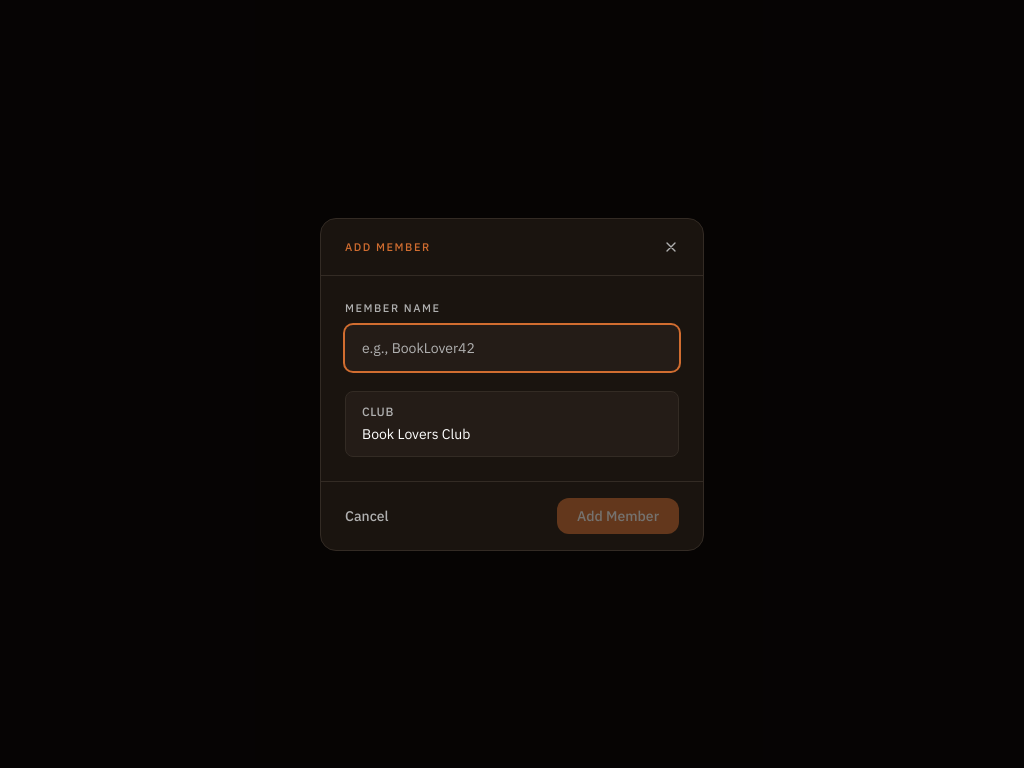
Scenario: MemberModal › Error Handling › shows error message in modal on network failure
The image size is (1024, 768).
In the field with placeholder "e.g., BookLover42": (512, 348) left=345, top=324, right=679, bottom=370, type "Test"
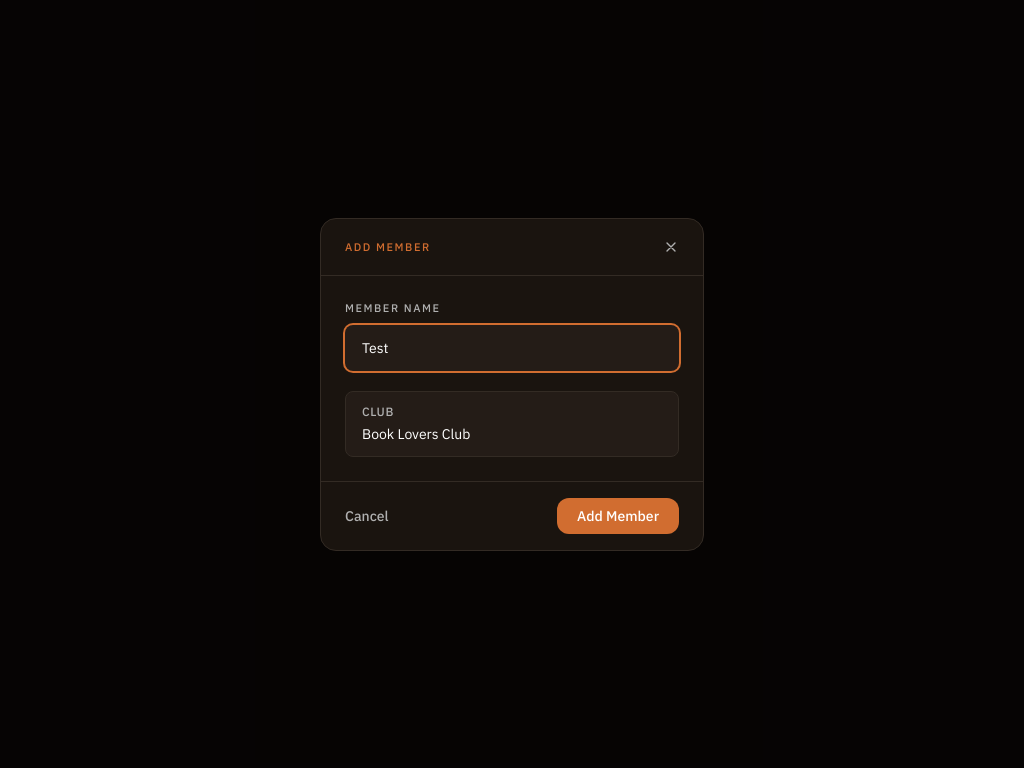
Click the button "Add Member": (618, 516) left=557, top=498, right=679, bottom=534
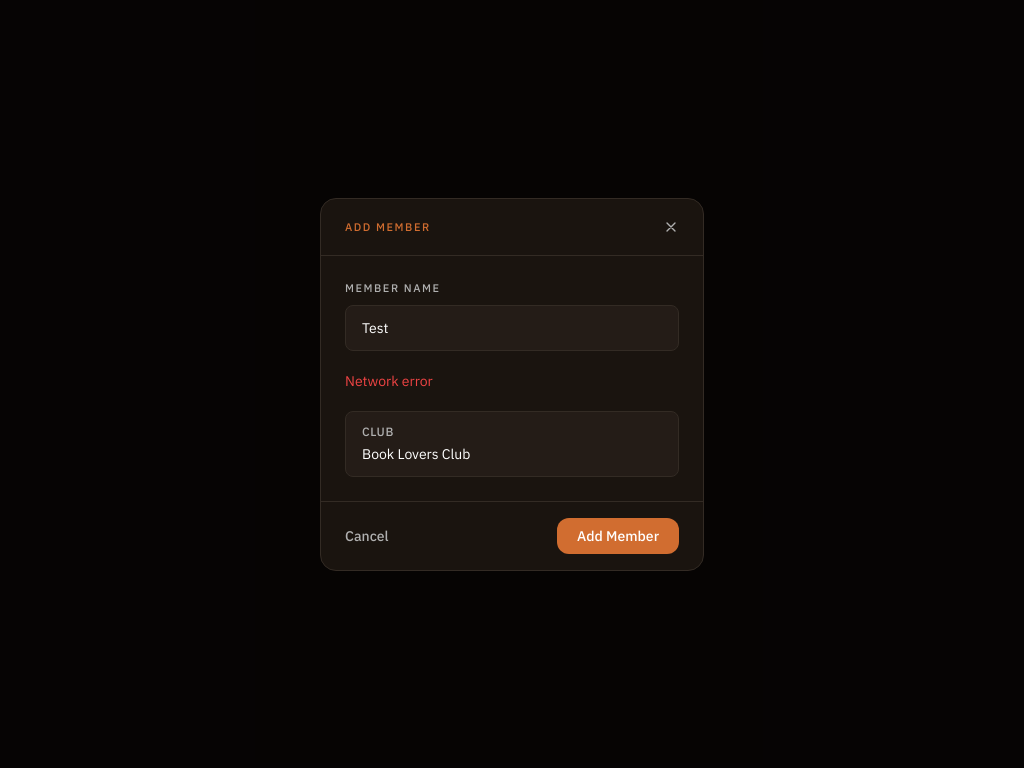
Result: the text "Network error" is shown at left=345, top=372, right=433, bottom=390
